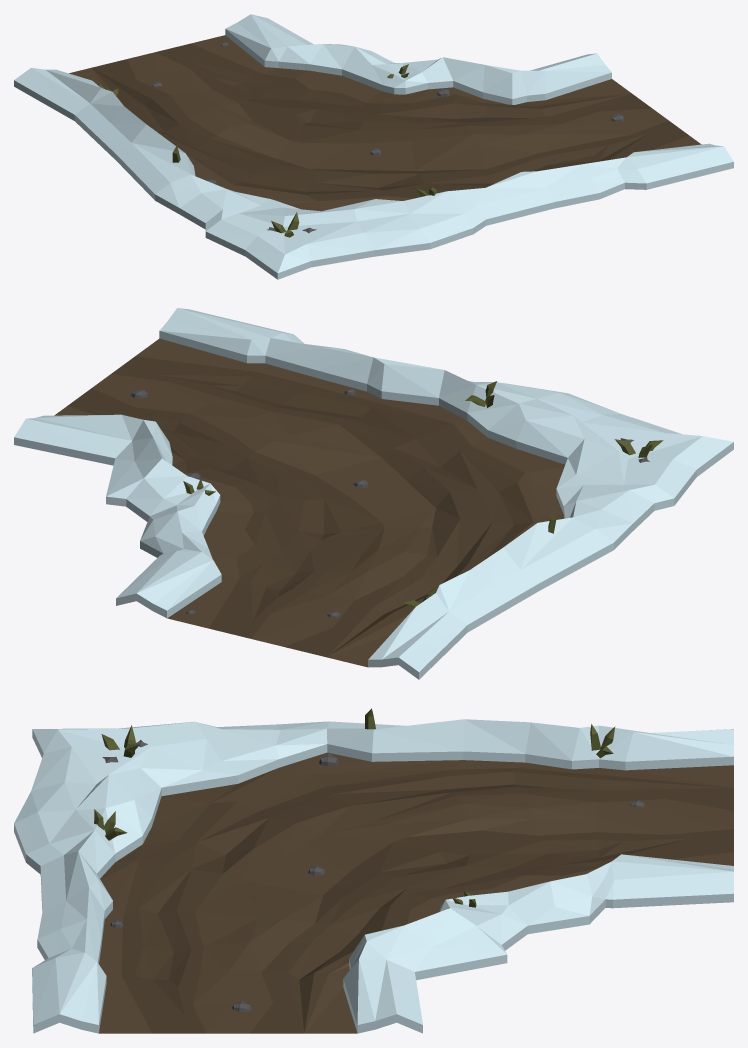
Rendered from SM_Env_Road_Corner_01_Snow.gltf.
The picture shows the model from 3 angles, top to bottom: view 1: azimuth 30°, elevation 25°; view 2: azimuth 150°, elevation 25°; view 3: azimuth 270°, elevation 25°; orthographic projection. The views are drawn at different scales.
Visible parts, largest first — view 1: SM_Env_Road_Corner_01_Snow; view 2: SM_Env_Road_Corner_01_Snow; view 3: SM_Env_Road_Corner_01_Snow.
Boxes of the visible parts, left/top/right/bottom form: SM_Env_Road_Corner_01_Snow: left=14, top=14, right=733, bottom=279; SM_Env_Road_Corner_01_Snow: left=14, top=308, right=733, bottom=679; SM_Env_Road_Corner_01_Snow: left=14, top=708, right=733, bottom=1033.
Bounding box in the file's own units: 6.39 × 0.5182 × 6.41.
Materials: 1 (1 with a texture image).
